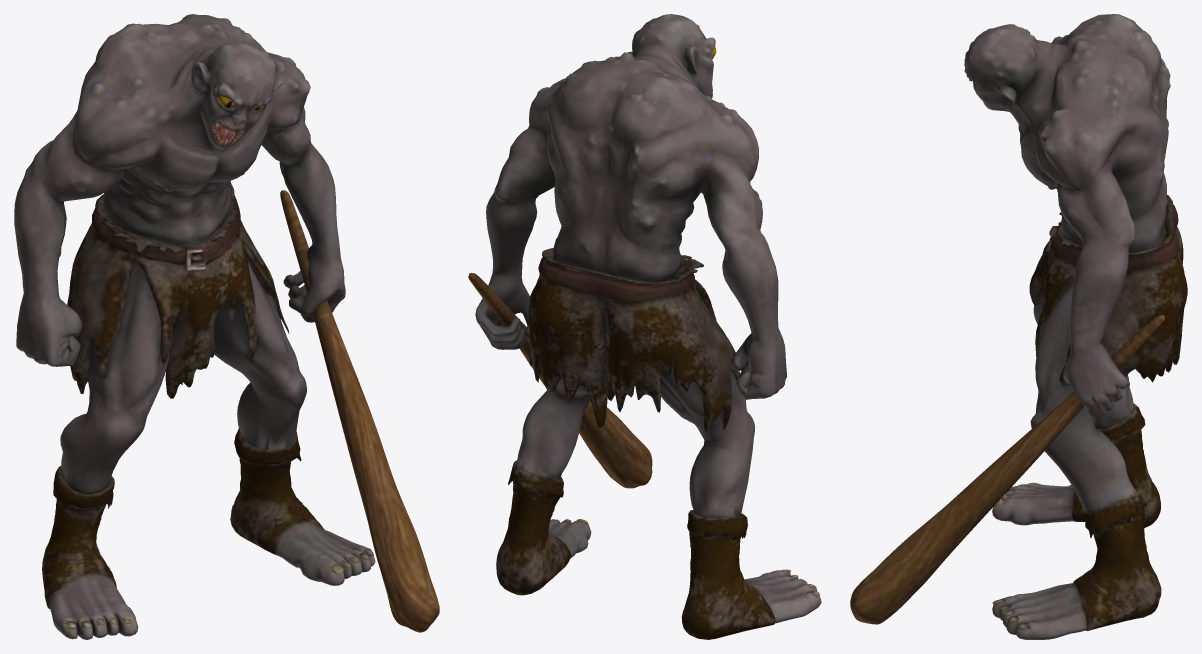
Rendered from MZ4250 - Fomorian.glb.
3 renders of one model, left to right at view 1: azimuth 30°, elevation 25°; view 2: azimuth 150°, elevation 25°; view 3: azimuth 270°, elevation 25°, orthographic. The views are drawn at different scales.
Visible parts, largest first — view 1: ORGANIC BASE SPHERE.001; view 2: ORGANIC BASE SPHERE.001; view 3: ORGANIC BASE SPHERE.001.
Part boxes in pixels (x1,y1,x2,y2): ORGANIC BASE SPHERE.001: (14, 14, 439, 639); ORGANIC BASE SPHERE.001: (468, 14, 821, 639); ORGANIC BASE SPHERE.001: (850, 14, 1187, 639).
Size of the model in its own units: 20.39 by 35.12 by 19.65.
1 material, 1 textured.
